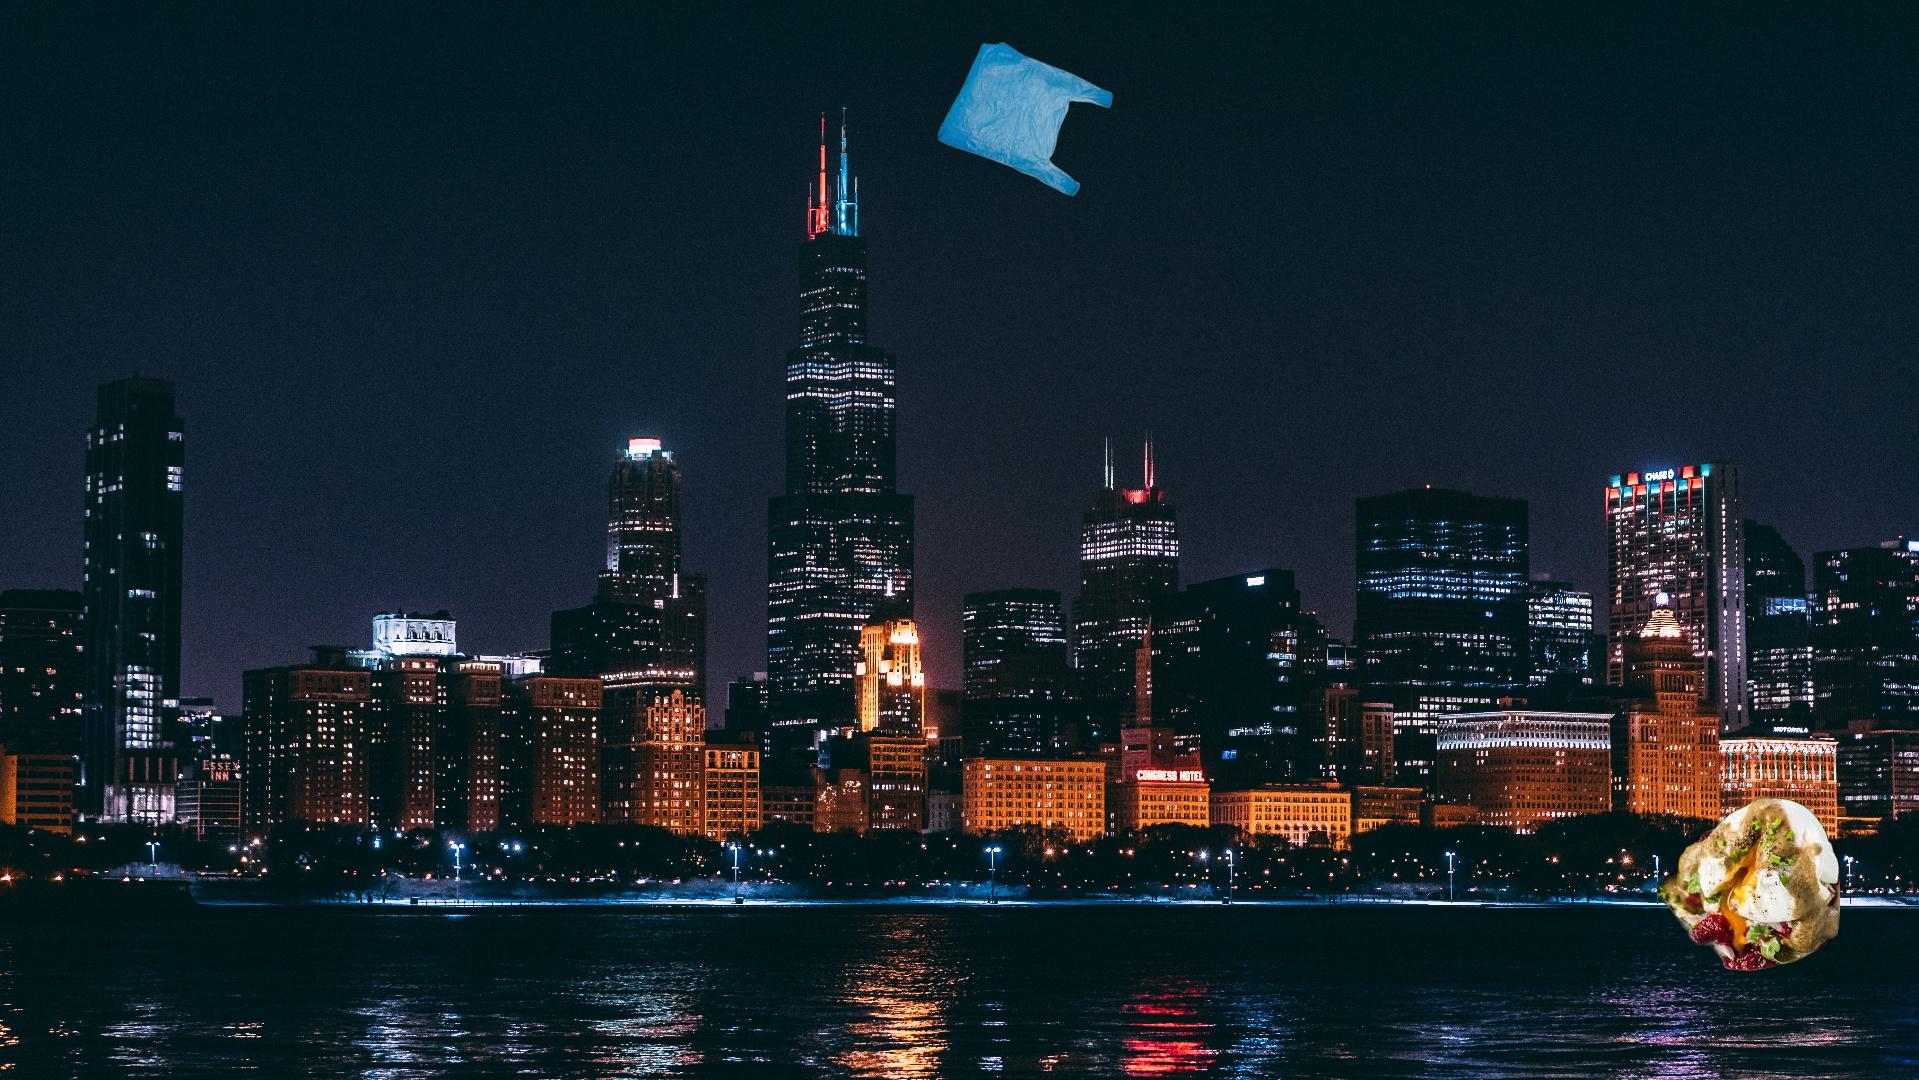biological: (1657, 794, 1840, 975)
plastic-bag: (934, 40, 1114, 198)
